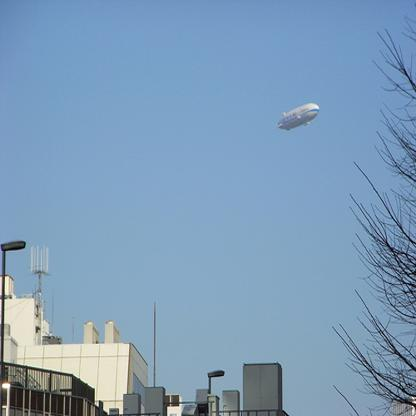Airship: (274, 95, 323, 139)
